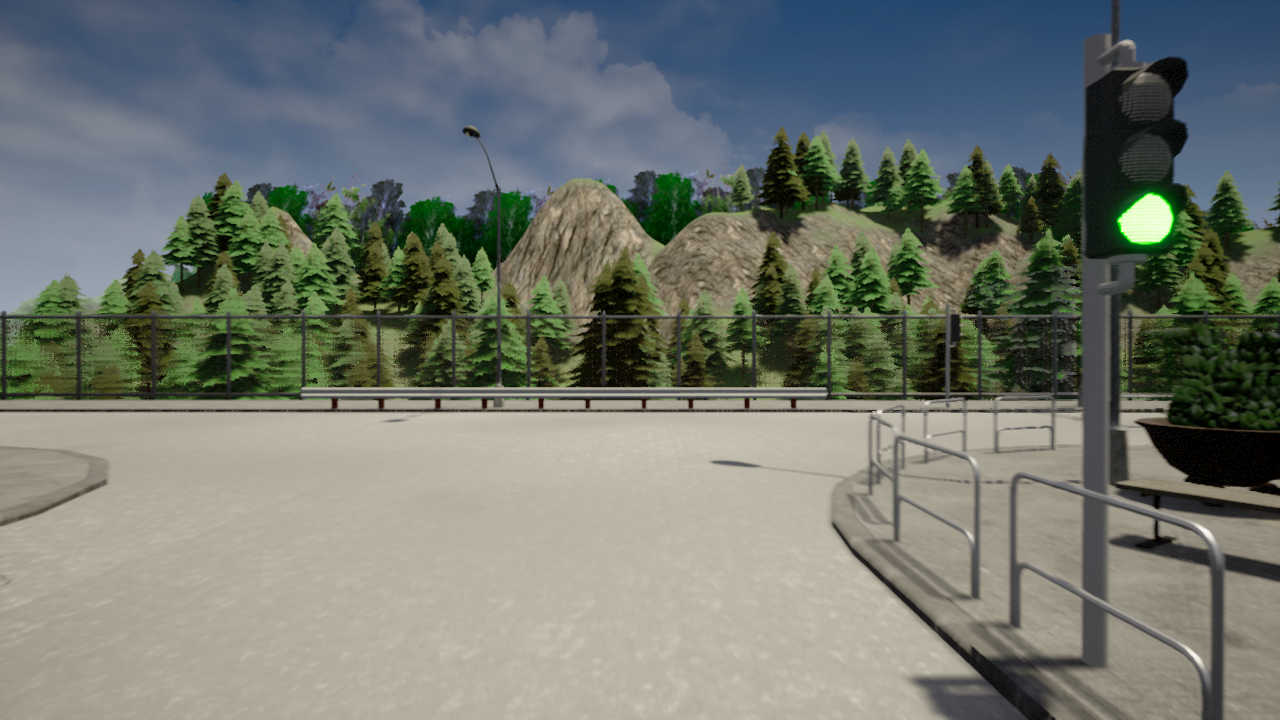green: (1092, 53, 1193, 261)
